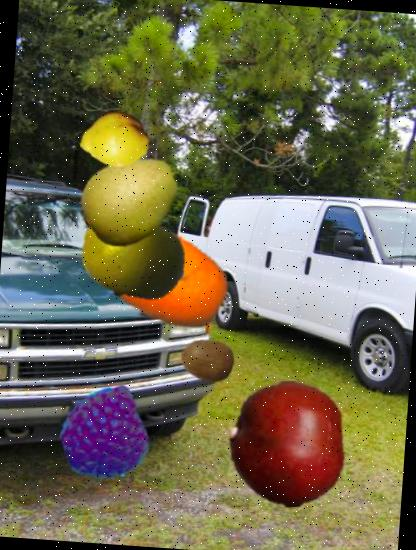Kiwi: (178, 330, 237, 389)
Kumquats: (100, 211, 234, 345)
Nectarine: (220, 377, 354, 511)
Pear: (75, 142, 190, 256)
Pomelo: (75, 200, 190, 315)
Quince: (76, 103, 150, 176)
Raspberry: (54, 387, 152, 484)
